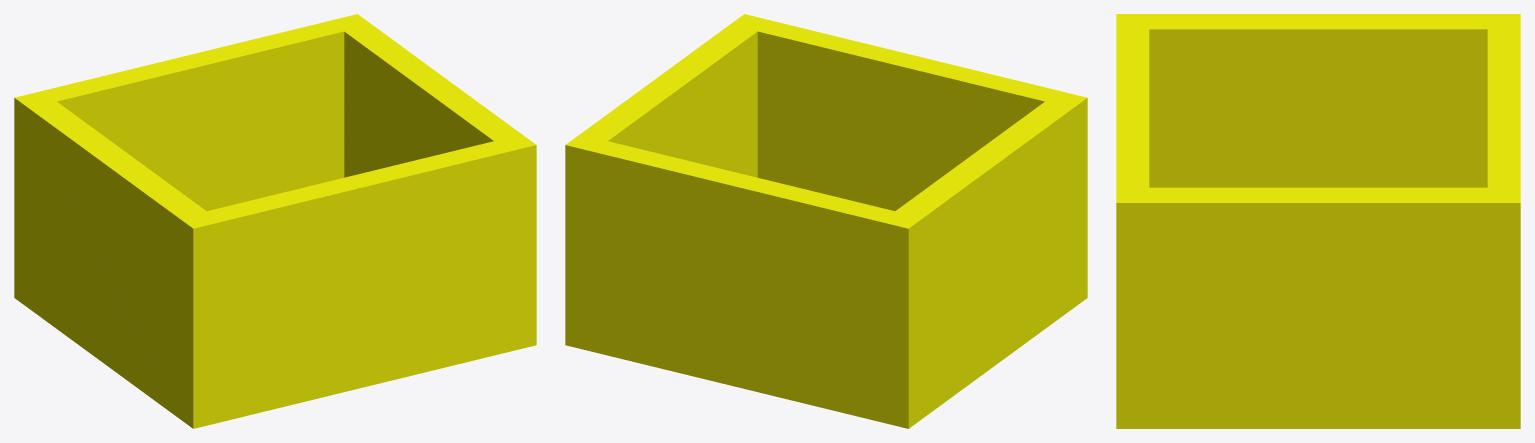
Rendered from Cart.glb.
3 renders of one model, left to right at view 1: azimuth 30°, elevation 25°; view 2: azimuth 150°, elevation 25°; view 3: azimuth 270°, elevation 25°, orthographic. The views are drawn at different scales.
Visible parts, largest first — view 1: Cart; view 2: Cart; view 3: Cart.
Part boxes in pixels (x1,y1,x2,y2): Cart: (14,14,536,428); Cart: (565,14,1087,428); Cart: (1116,14,1520,428).
Size of the model in its own units: 1.96 by 1.09 by 1.77.
Materials: 1 (1 with a texture image).
